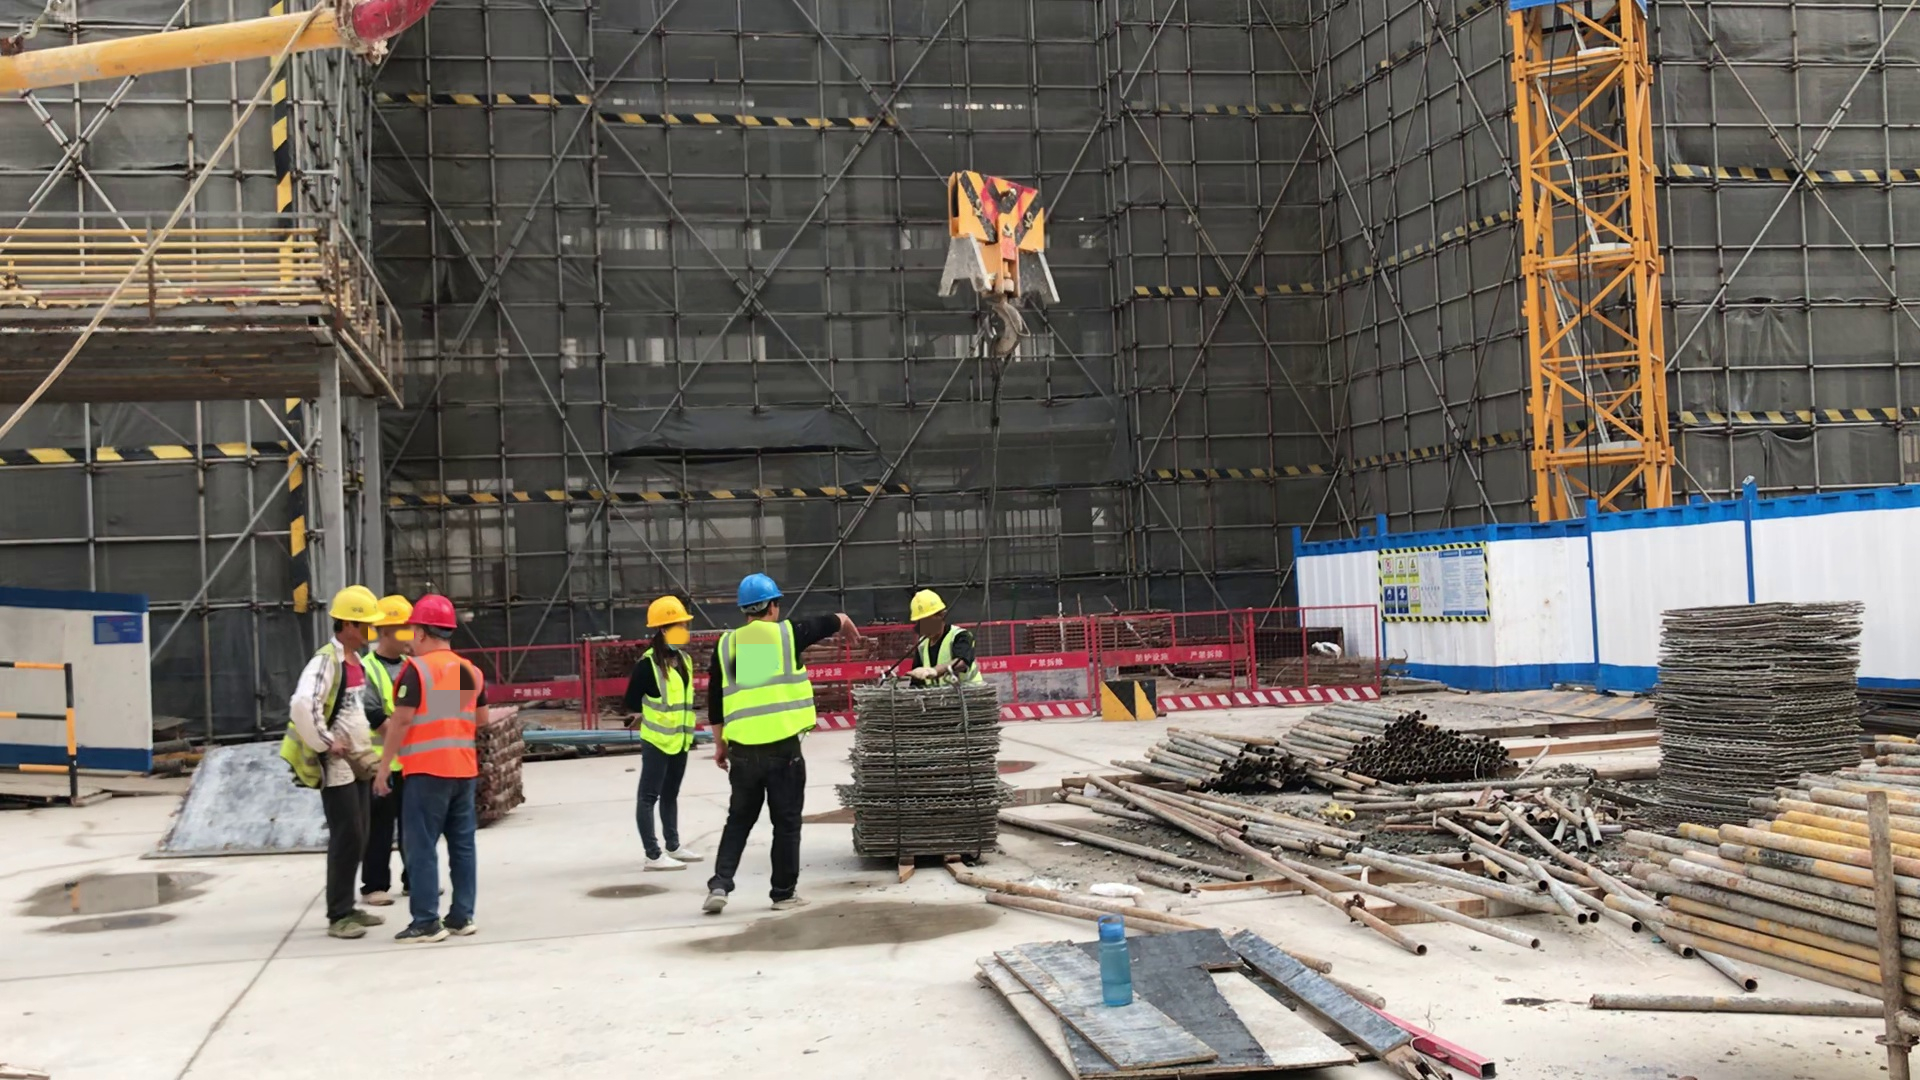fence: (993, 605, 1099, 723), (1162, 602, 1267, 719), (1276, 598, 1380, 706), (2, 656, 80, 790)
helmet: (325, 586, 385, 625), (640, 593, 697, 632), (406, 596, 459, 631), (734, 574, 786, 608), (910, 589, 948, 623)
hook: (939, 167, 1069, 357)
person: (711, 571, 860, 912), (370, 594, 491, 947), (278, 585, 389, 939), (625, 592, 706, 872), (900, 586, 984, 686)
scaffold: (1639, 727, 1920, 1059), (1304, 697, 1516, 777), (1098, 721, 1303, 790)
slogan: (1382, 552, 1487, 617)
vest: (715, 619, 822, 745), (397, 651, 488, 780), (281, 640, 346, 793), (636, 647, 698, 757), (919, 630, 984, 687)
